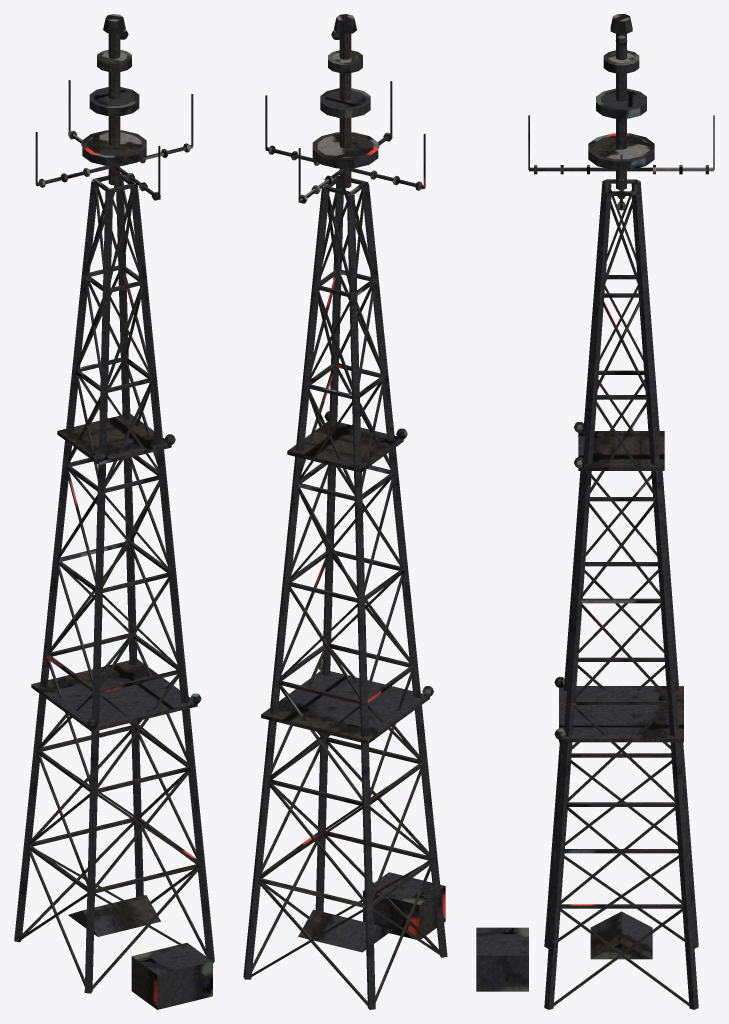
The model's file is SM_JammerTower.fbx.
3 views of the same model, side by side, from view 1: azimuth 30°, elevation 25°; view 2: azimuth 150°, elevation 25°; view 3: azimuth 270°, elevation 25° (orthographic). The views are drawn at different scales.
Parts seen in each view (by area): view 1: SM_JammerTower; view 2: SM_JammerTower; view 3: SM_JammerTower.
Boxes of the visible parts, box(x1,y1,x2,y2) form: SM_JammerTower: box(14, 14, 214, 1009); SM_JammerTower: box(243, 14, 447, 1009); SM_JammerTower: box(476, 14, 714, 1009).
Size of what is drawn, in the model's own units: 1411 by 8027 by 1806.
Materials: 2 (2 with a texture image).
